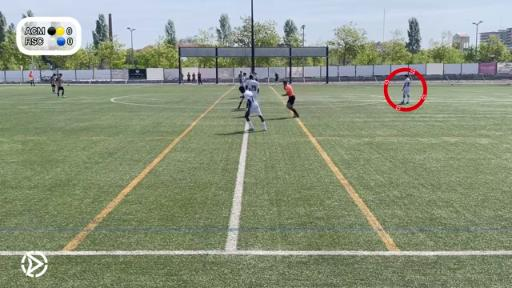highlight_overlay: (384, 67, 428, 112)
